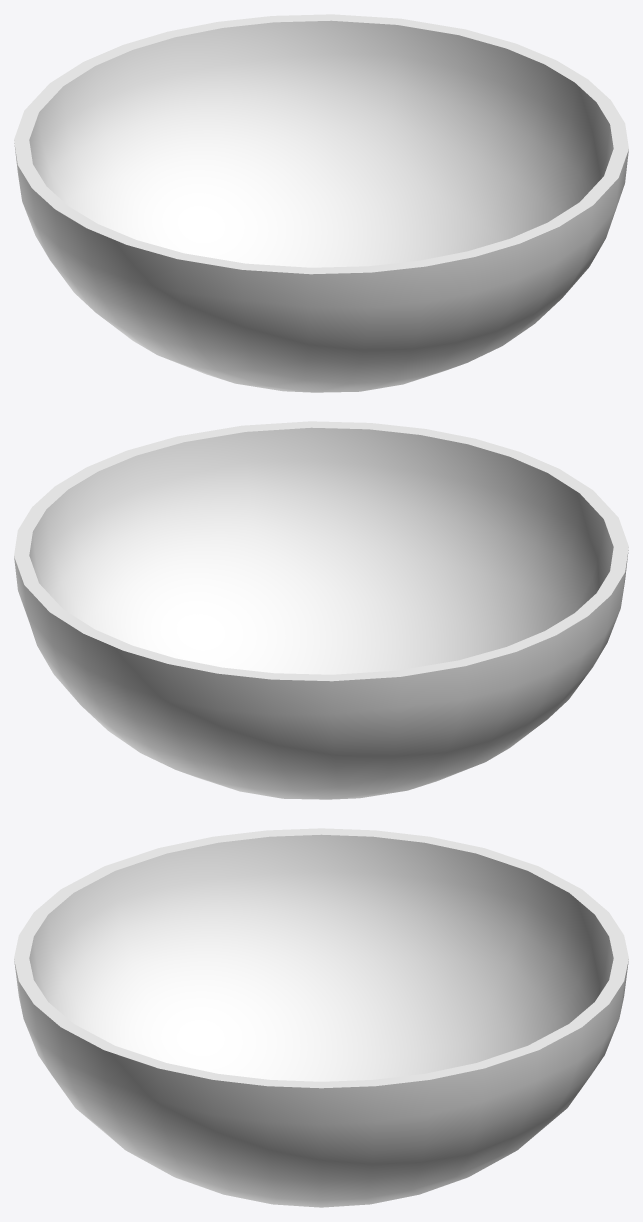
Rendered from HP_bowl.glb.
3 renders of one model, top to bottom at view 1: azimuth 30°, elevation 25°; view 2: azimuth 150°, elevation 25°; view 3: azimuth 270°, elevation 25°, orthographic.
Parts seen in each view (by area): view 1: HP_bowl.001; view 2: HP_bowl.001; view 3: HP_bowl.001.
Boxes of the visible parts, left/top/right/bottom form: HP_bowl.001: left=14, top=14, right=628, bottom=392; HP_bowl.001: left=14, top=421, right=628, bottom=799; HP_bowl.001: left=14, top=828, right=628, bottom=1207.
Bounding box in the file's own units: 0.1764 × 0.0673 × 0.1764.
1 material, 1 textured.
